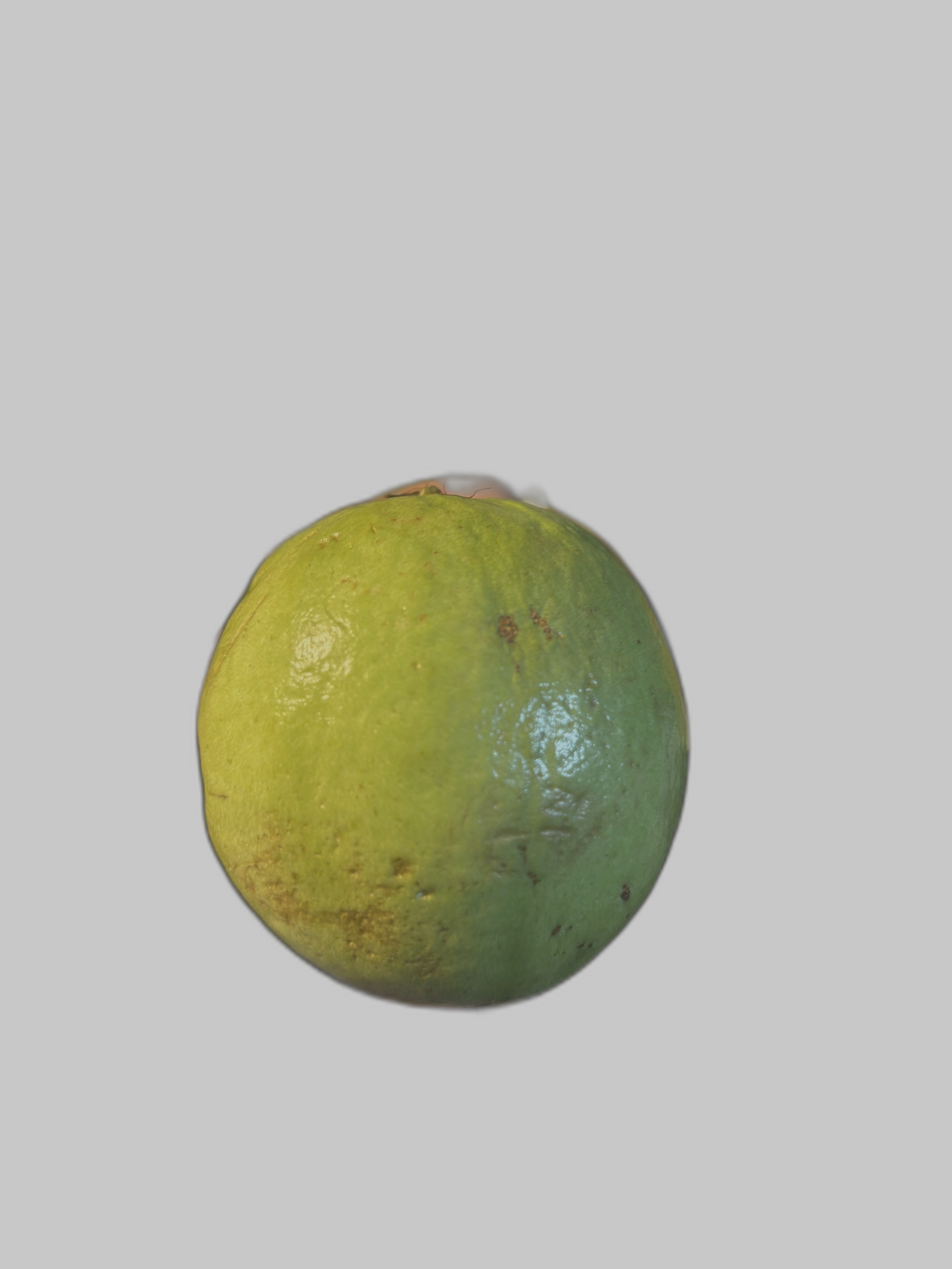guava: (102, 45, 691, 1151)
